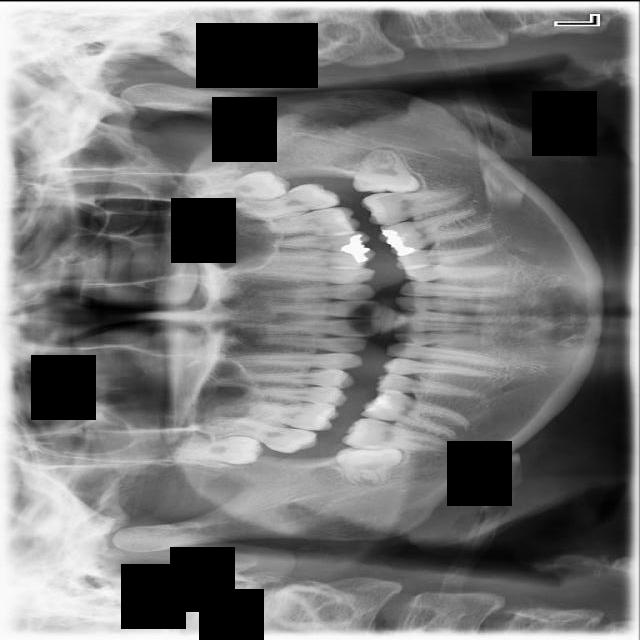3M ESPE Implant: (175, 430, 264, 465)
52: (357, 376, 414, 434), (375, 213, 433, 260), (325, 244, 378, 271), (288, 402, 339, 430), (328, 230, 371, 251)
73: (559, 26, 570, 33)
BioHorizons Implant: (236, 178, 342, 222)
BioLife Implant: (193, 164, 293, 212)
Biomet 3i Implant: (350, 145, 420, 195)
Blue Sky Bio Implant: (359, 184, 474, 226)
Caries: (204, 411, 319, 458)
Implant: (342, 416, 452, 454)
Keystone Dental Implant: (335, 444, 403, 487)
